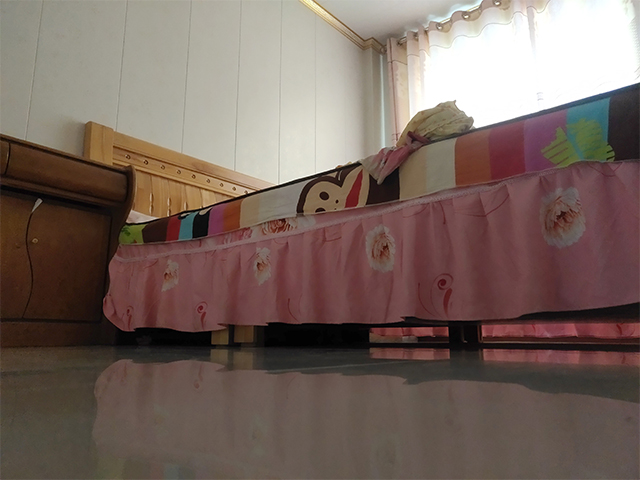bed: (79, 81, 640, 349)
cabinet: (1, 133, 138, 350)
